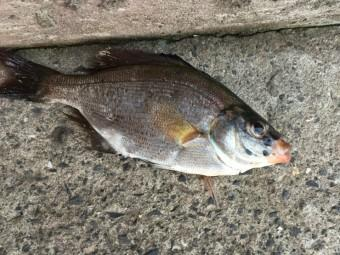fish: (0, 48, 293, 210)
